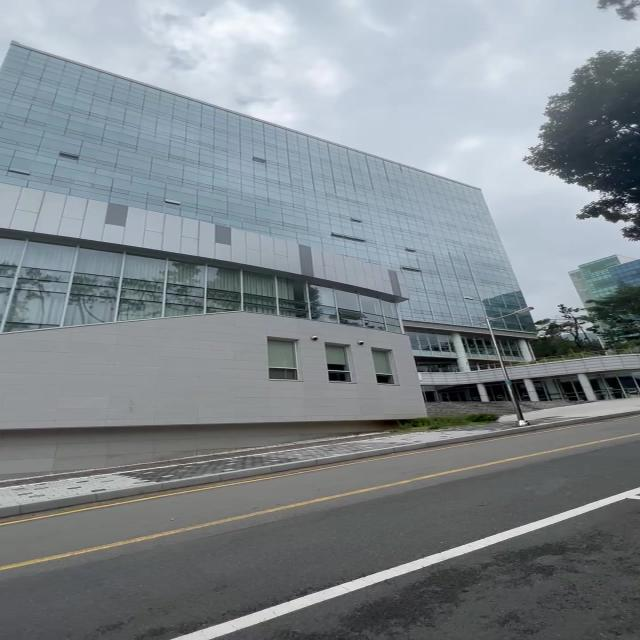building: (2, 75, 496, 405)
